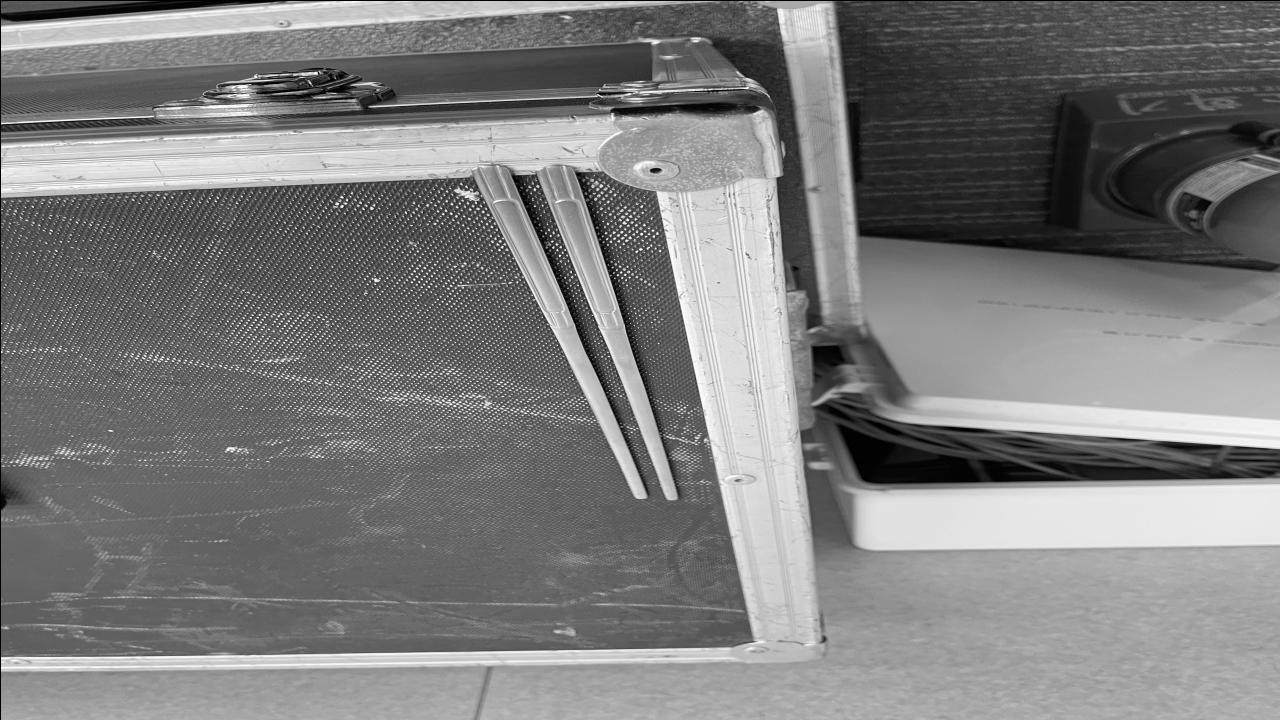chopstick: (467, 156, 683, 500)
